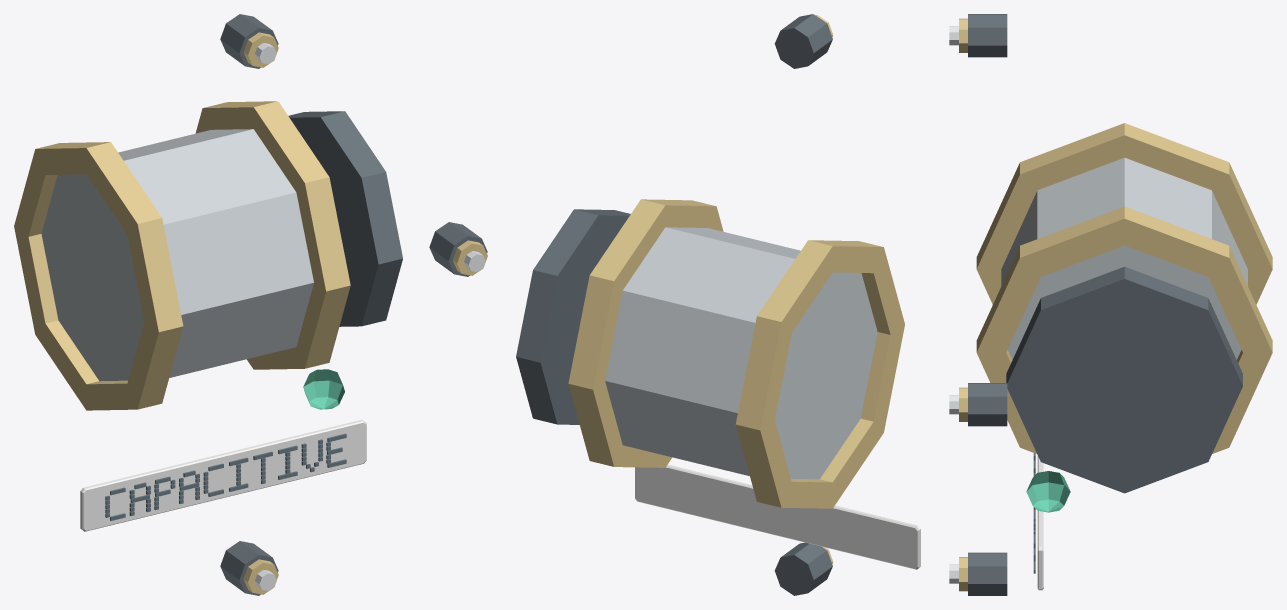
Rendered from capacitiveSensor.glb.
3 views of the same model, side by side, from view 1: azimuth 30°, elevation 25°; view 2: azimuth 150°, elevation 25°; view 3: azimuth 270°, elevation 25° (orthographic). The views are drawn at different scales.
Visible parts, largest first — view 1: capacitiveSensor-board; view 2: capacitiveSensor-board; view 3: capacitiveSensor-board.
Boxes of the visible parts, x1,y1,x2,y2 form: capacitiveSensor-board: (14,14,487,595); capacitiveSensor-board: (516,14,920,595); capacitiveSensor-board: (949,14,1272,595).
Size of the model in its own units: 1.81 by 2.65 by 1.34.
